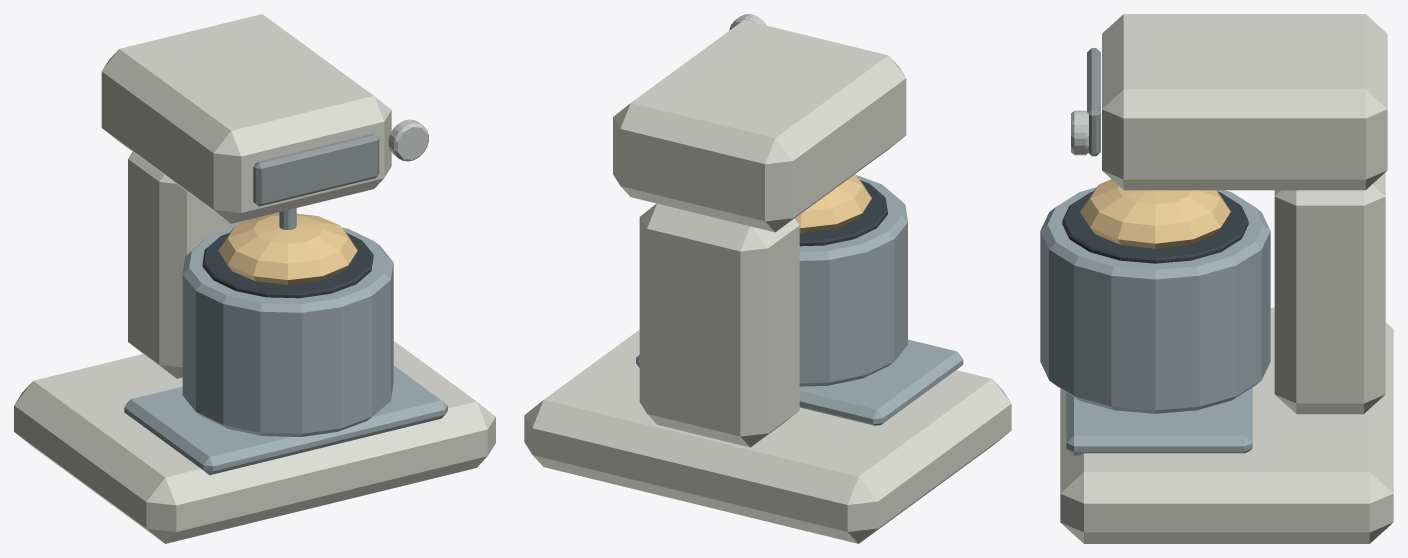
The model's file is StandMixer.glb.
3 renders of one model, left to right at view 1: azimuth 30°, elevation 25°; view 2: azimuth 150°, elevation 25°; view 3: azimuth 270°, elevation 25°, orthographic. The views are drawn at different scales.
Visible parts, largest first — view 1: MixerBase, MixerHead, MixingBowl, MixerRearColumn, MixerBaseInset, Dough, MixerAccent, BowlOpening, MixerSpeedKnob; view 2: MixerBase, MixerHead, MixerRearColumn, MixingBowl, MixerBaseInset, Dough, BowlOpening; view 3: MixerHead, MixerBase, MixingBowl, MixerRearColumn, MixerBaseInset, Dough, BowlOpening, MixerAccent, MixerSpeedKnob.
Boxes of the visible parts, bbox=[...] form: MixerBase: bbox=[14, 341, 495, 543]; MixerHead: bbox=[101, 14, 391, 223]; MixingBowl: bbox=[182, 227, 393, 436]; MixerRearColumn: bbox=[128, 152, 279, 378]; MixerBaseInset: bbox=[124, 365, 447, 475]; Dough: bbox=[218, 213, 357, 284]; MixerAccent: bbox=[253, 133, 379, 206]; BowlOpening: bbox=[202, 232, 373, 298]; MixerSpeedKnob: bbox=[388, 119, 428, 161]; MixerBase: bbox=[524, 330, 1011, 543]; MixerHead: bbox=[613, 20, 906, 232]; MixerRearColumn: bbox=[639, 203, 799, 447]; MixingBowl: bbox=[799, 175, 907, 386]; MixerBaseInset: bbox=[636, 339, 963, 425]; Dough: bbox=[795, 174, 871, 232]; BowlOpening: bbox=[799, 180, 887, 246]; MixerHead: bbox=[1102, 14, 1387, 190]; MixerBase: bbox=[1060, 307, 1393, 543]; MixingBowl: bbox=[1040, 187, 1270, 413]; MixerRearColumn: bbox=[1274, 172, 1385, 414]; MixerBaseInset: bbox=[1066, 387, 1252, 455]; Dough: bbox=[1080, 179, 1230, 248]; BowlOpening: bbox=[1062, 191, 1248, 263]; MixerAccent: bbox=[1087, 48, 1100, 156]; MixerSpeedKnob: bbox=[1071, 110, 1088, 155].
Size of the model in its own units: 1.1 by 1.14 by 0.89.
